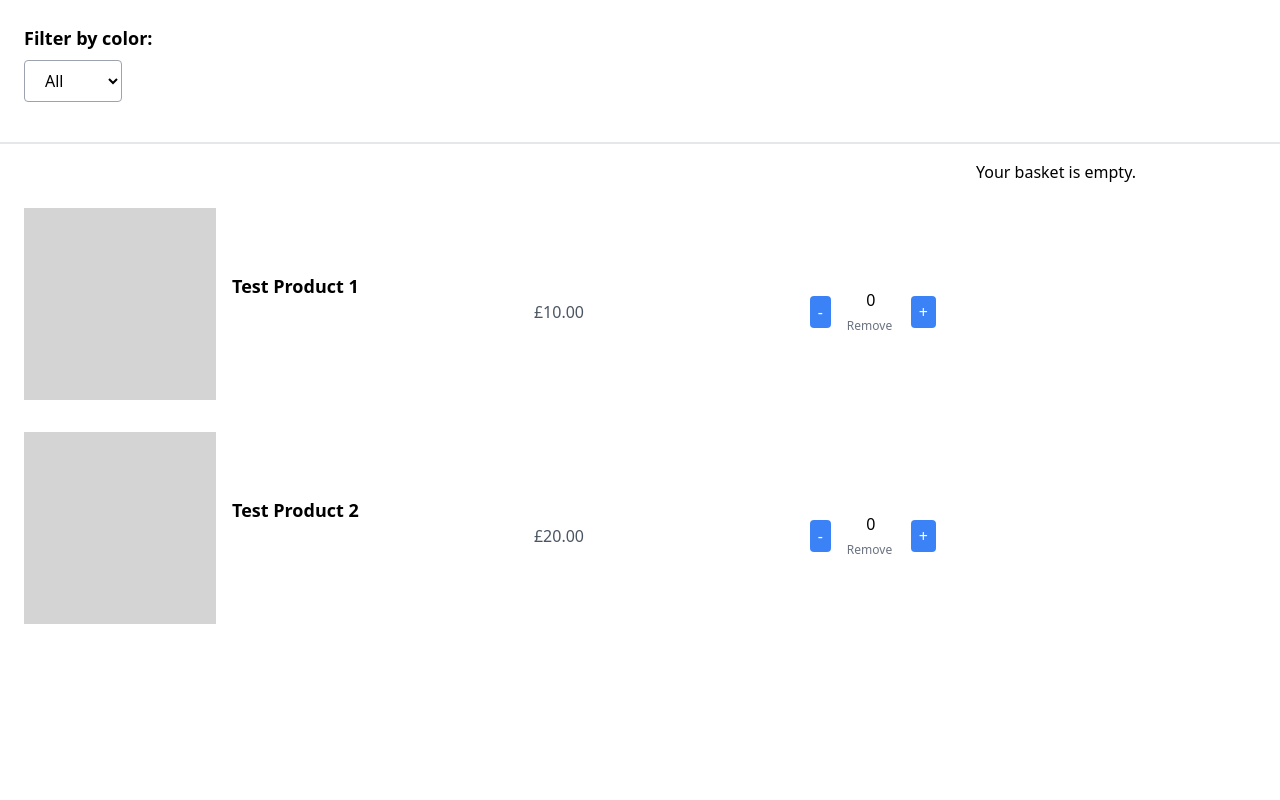
Scenario: App › when no error › methods › removes a product from the basket
Expected: the number of elements with test id "product-card" is 2, [24,192,936,416]; [24,416,936,640]
Click the button "+" in the row of "10.00" at (923, 312), box [911,296,936,328]
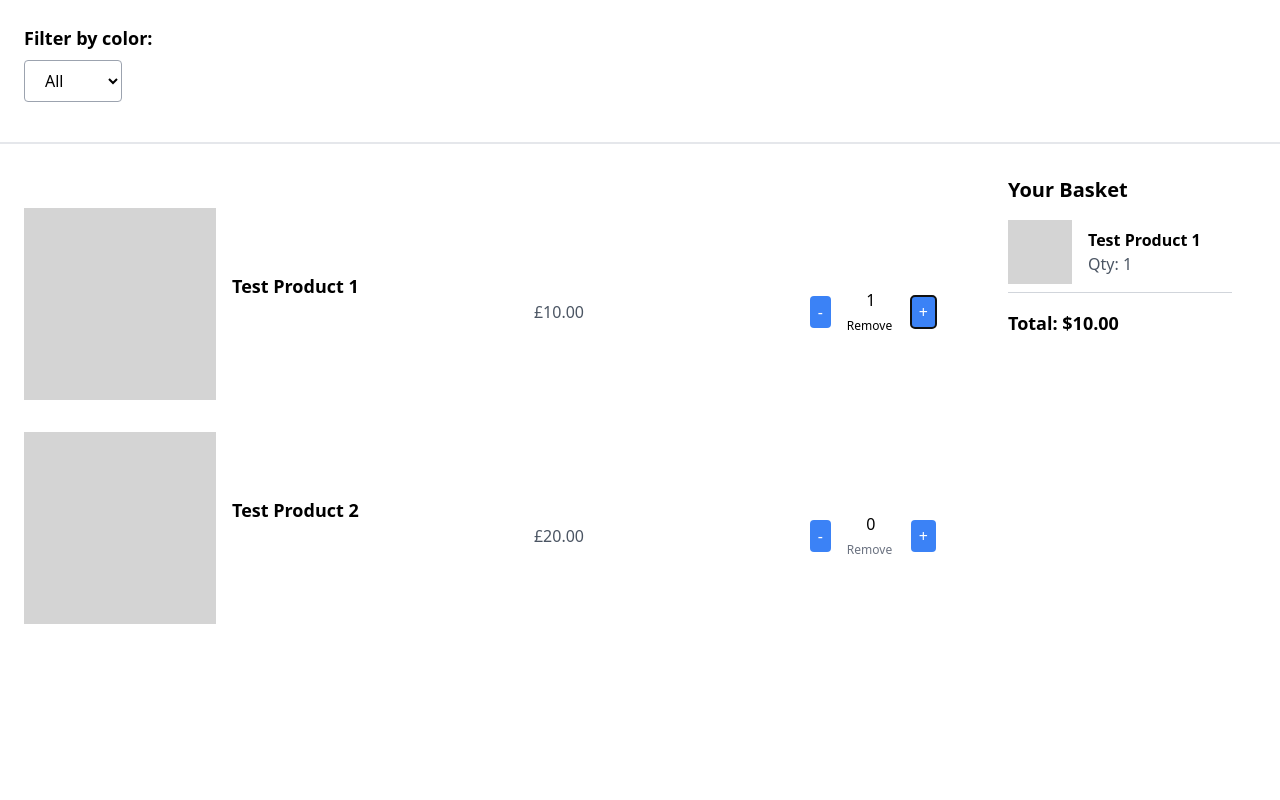
Expected: the element with test id "basket-item" is shown, [1008,220,1232,293]
Click the 1st button "Remove" at (869, 326), box [847,317,892,335]
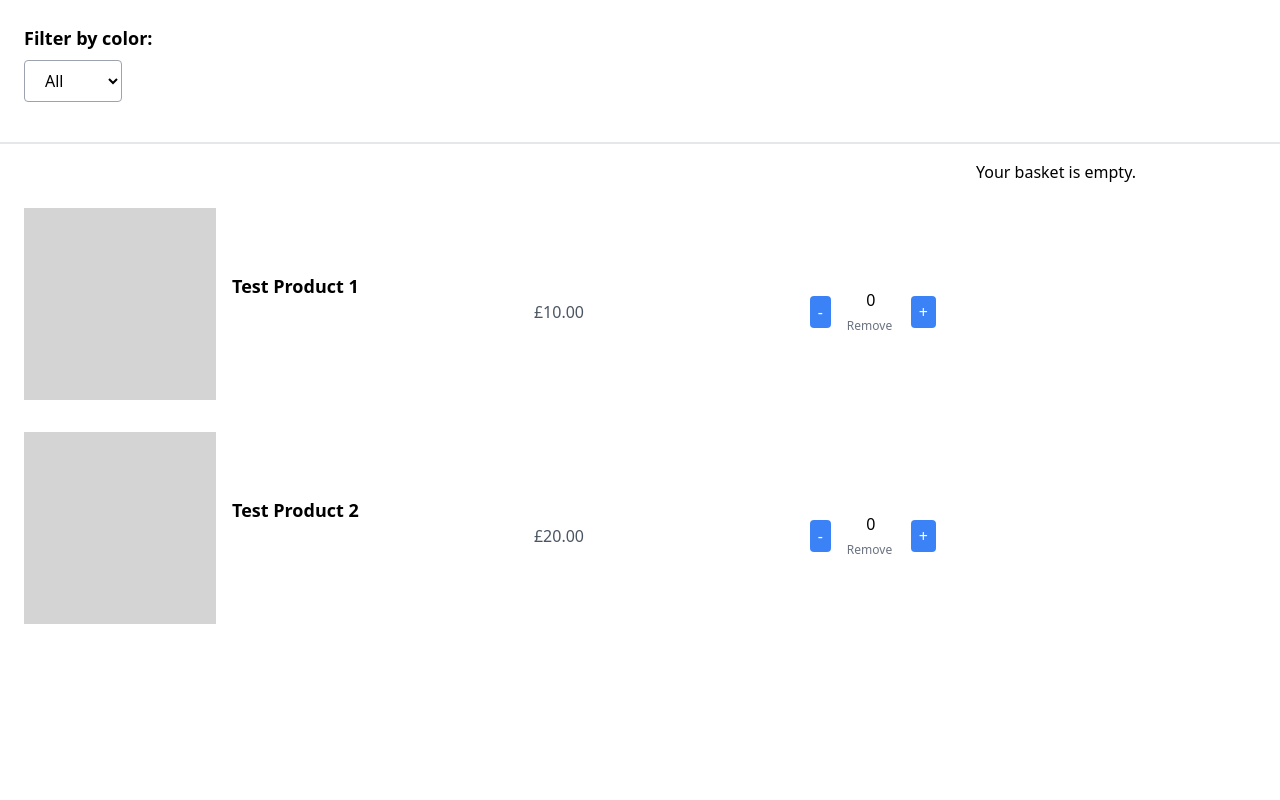
Expected: the element with test id "basket-item" is gone
